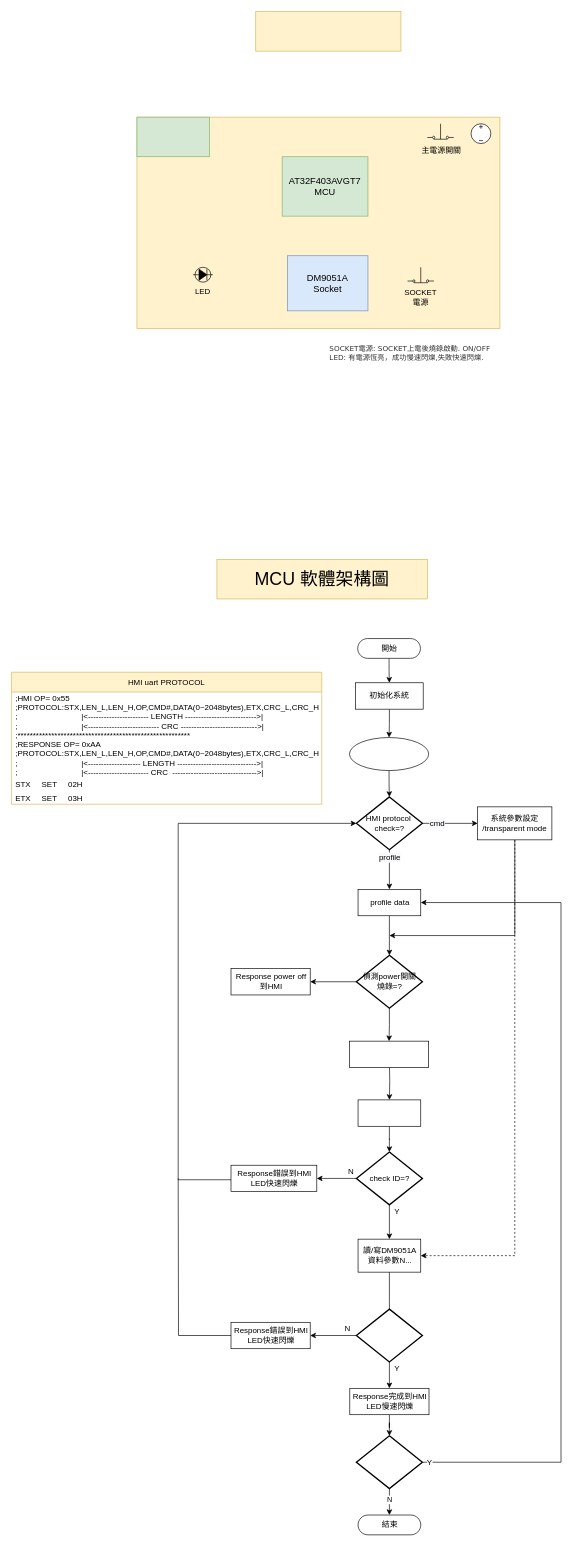
Image size: 578x1546. Some labels were removed from this diagram. The shapes that lost their labels are listed below. From the top down, each one's centre as x and y in pixels, then its label:
the point at 328,31: 硬體示意圖
the point at 173,136: DM9625 USB <==> UART
the point at 480,133: 電源5V
the point at 389,754: 等待HMI command/data
the point at 389,1054: Response power on 到HMI
the point at 389,1112: 讀取DM9051A DM9051_ID
the point at 389,1335: 正確完成=?
the point at 389,1462: 下一筆MAC=?
